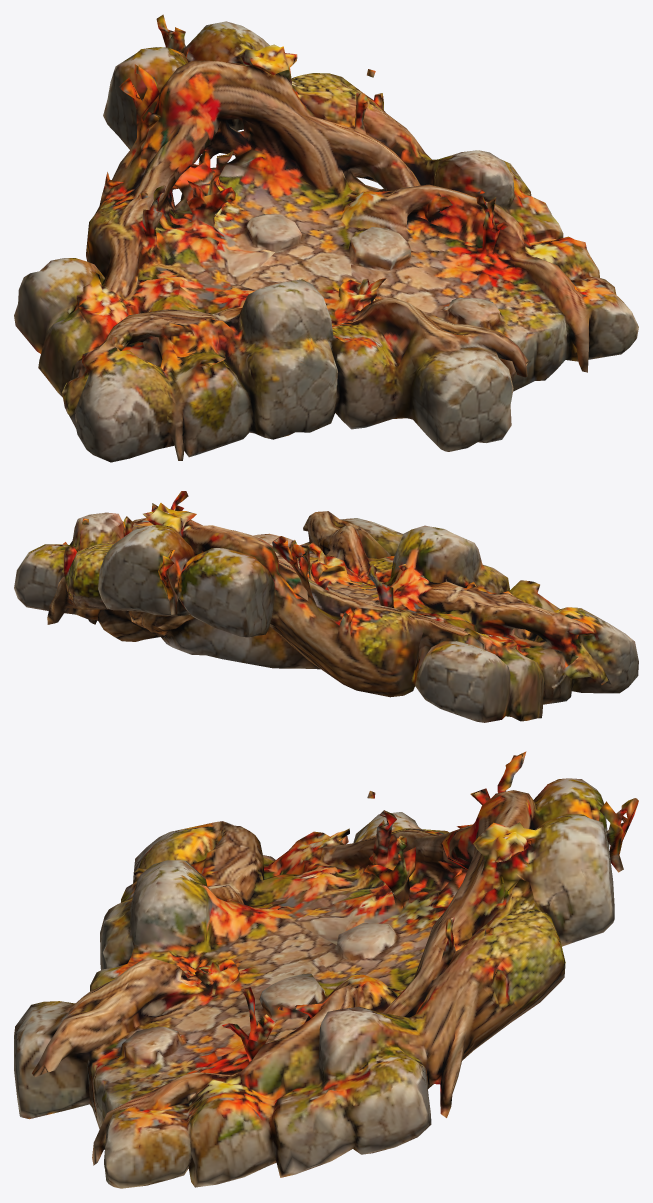
The model's file is FallDecor_FirstRoom_RootTerrace.fbx.
3 views of the same model, one above another, from view 1: azimuth 30°, elevation 25°; view 2: azimuth 150°, elevation 25°; view 3: azimuth 270°, elevation 25° (orthographic). The views are drawn at different scales.
Visible parts, largest first — view 1: FallDecor_FirstRoom_RootTerrace_Mesh; view 2: FallDecor_FirstRoom_RootTerrace_Mesh; view 3: FallDecor_FirstRoom_RootTerrace_Mesh.
Part boxes in pixels (left/top/right/bottom): FallDecor_FirstRoom_RootTerrace_Mesh: left=14, top=14, right=638, bottom=462; FallDecor_FirstRoom_RootTerrace_Mesh: left=14, top=491, right=638, bottom=722; FallDecor_FirstRoom_RootTerrace_Mesh: left=14, top=751, right=638, bottom=1188.
Size of the model in its own units: 6 by 2.69 by 5.34.
Materials: 1 (1 with a texture image).
